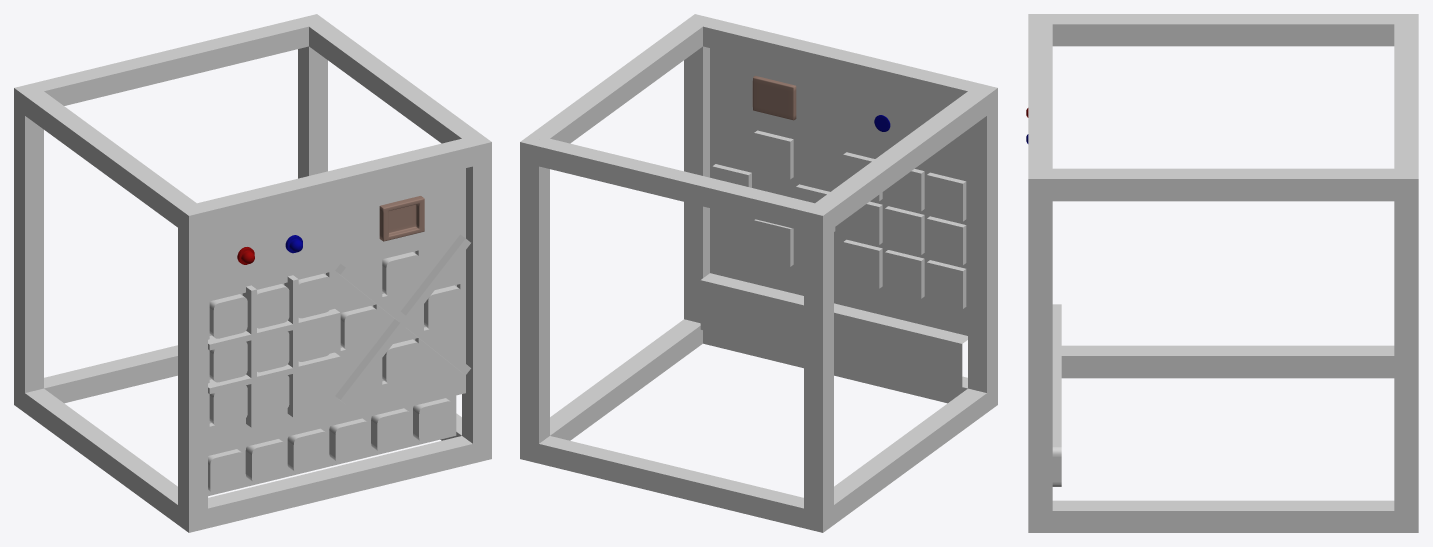
Rendered from Pigpen_P2_01.fbx.
The picture shows the model from 3 angles, left to right: view 1: azimuth 30°, elevation 25°; view 2: azimuth 150°, elevation 25°; view 3: azimuth 270°, elevation 25°; orthographic projection. The views are drawn at different scales.
Visible parts, largest first — view 1: Display Plane, Box048, Box049, Box050, X Grid, Box055, Box056, Box051, Letter Slot Plane, Box054, Box052, Box053 (+25 smaller); view 2: Letter Slot Plane, Display Plane, Tic Tac Toe Grid, X Grid, Box055, Box056, Box046, Box057, Box048, Box049, Box054, Box052 (+12 smaller); view 3: Box053, Box047, Box054, Box052, Box046, Box051, Box056, Box049, Letter Slot Plane.
Boxes of the visible parts, x1,y1,x2,y2 form: Display Plane: (208, 168, 465, 295); Box048: (178, 216, 207, 532); Box049: (189, 138, 491, 230); Box050: (189, 436, 491, 532); X Grid: (335, 233, 465, 401); Box055: (14, 88, 43, 404); Box056: (14, 14, 316, 105); Box051: (462, 142, 491, 458); Letter Slot Plane: (208, 371, 465, 496); Box054: (14, 88, 196, 227); Box052: (14, 388, 188, 532); Box053: (309, 14, 491, 143); Letter Slot Plane: (700, 250, 967, 393); Display Plane: (710, 48, 967, 175); Tic Tac Toe Grid: (841, 145, 967, 312); X Grid: (710, 113, 840, 281); Box055: (804, 216, 833, 532); Box056: (520, 138, 822, 230); Box046: (520, 142, 549, 458); Box057: (520, 436, 822, 532); Box048: (968, 88, 997, 404); Box049: (695, 14, 997, 105); Box054: (815, 88, 997, 227); Box052: (823, 388, 997, 532); Box053: (1028, 168, 1418, 201); Box047: (1028, 500, 1418, 532); Box054: (1029, 14, 1417, 46); Box052: (1061, 345, 1394, 378); Box046: (1394, 179, 1418, 532); Box051: (1028, 179, 1052, 532); Box056: (1394, 14, 1418, 178); Box049: (1028, 14, 1052, 178); Letter Slot Plane: (1052, 304, 1061, 446).
Bounding box in the file's own units: 126 × 126 × 127.
